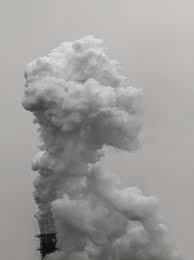smoke: (17, 31, 185, 260)
